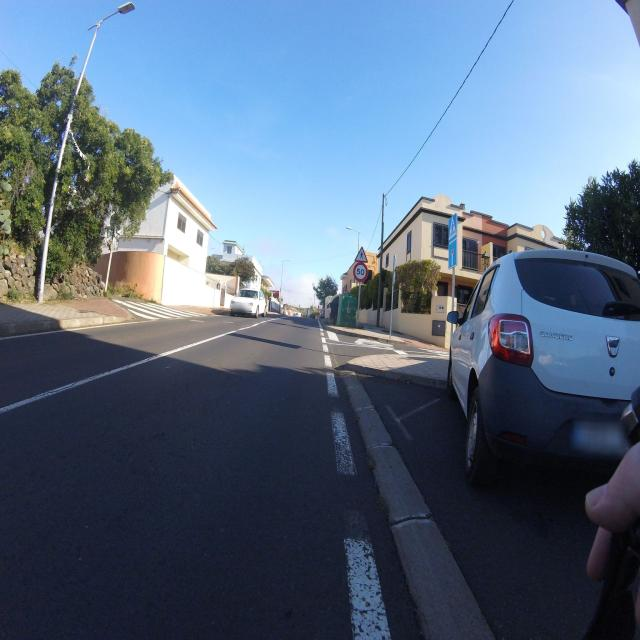car: (446, 244, 640, 493), (230, 287, 267, 318)
